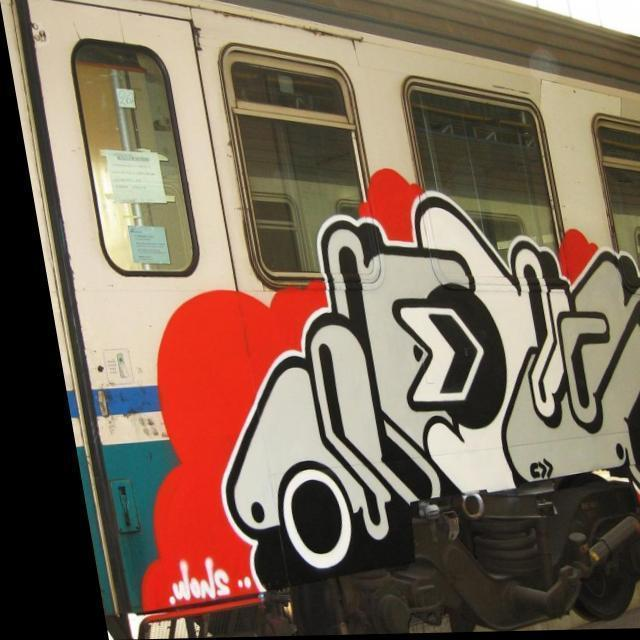nonspitting: (220, 192, 640, 570), (168, 558, 252, 610)
